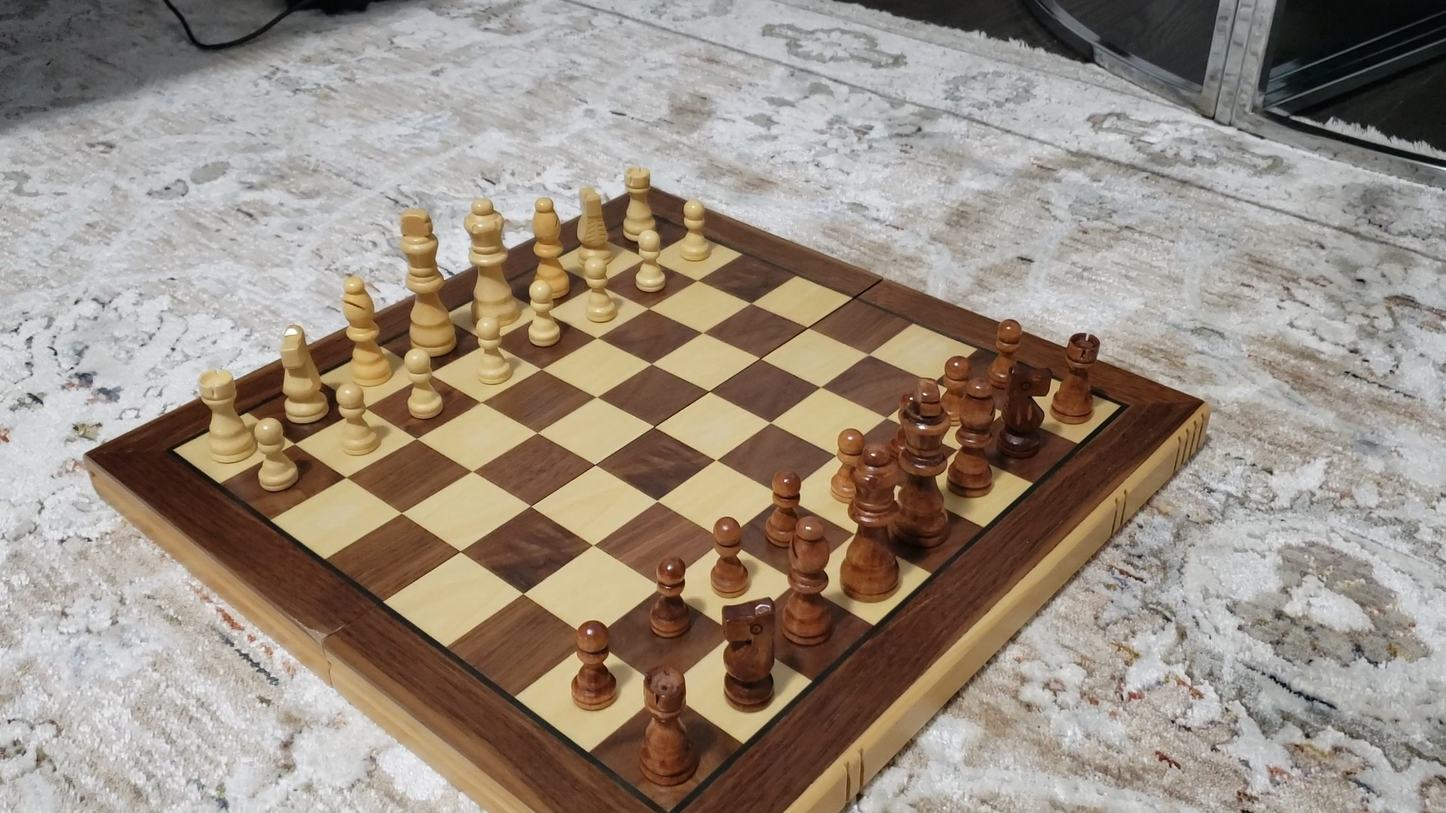black-bishop: (946, 374, 1003, 497), (781, 516, 835, 645)
black-king: (885, 377, 960, 549)
black-knight: (719, 596, 780, 711), (995, 360, 1047, 458)
black-pawn: (567, 618, 619, 713), (645, 553, 694, 641), (707, 513, 752, 601), (764, 467, 807, 549), (982, 314, 1026, 393), (934, 352, 975, 435), (829, 425, 868, 501)
black-queen: (835, 439, 908, 605)
black-rook: (636, 665, 699, 788), (1051, 330, 1103, 424)
white-bishop: (337, 273, 393, 388), (528, 193, 571, 304)
white-king: (395, 202, 453, 360)
white-knight: (276, 324, 332, 425), (573, 182, 614, 273)
white-pawn: (246, 414, 305, 496), (571, 244, 623, 328), (329, 382, 384, 460), (397, 346, 450, 425), (468, 312, 516, 391), (520, 274, 567, 353), (627, 222, 673, 299), (674, 194, 717, 266)
white-queen: (463, 194, 515, 332)
white-rook: (191, 366, 256, 465), (620, 162, 659, 249)
